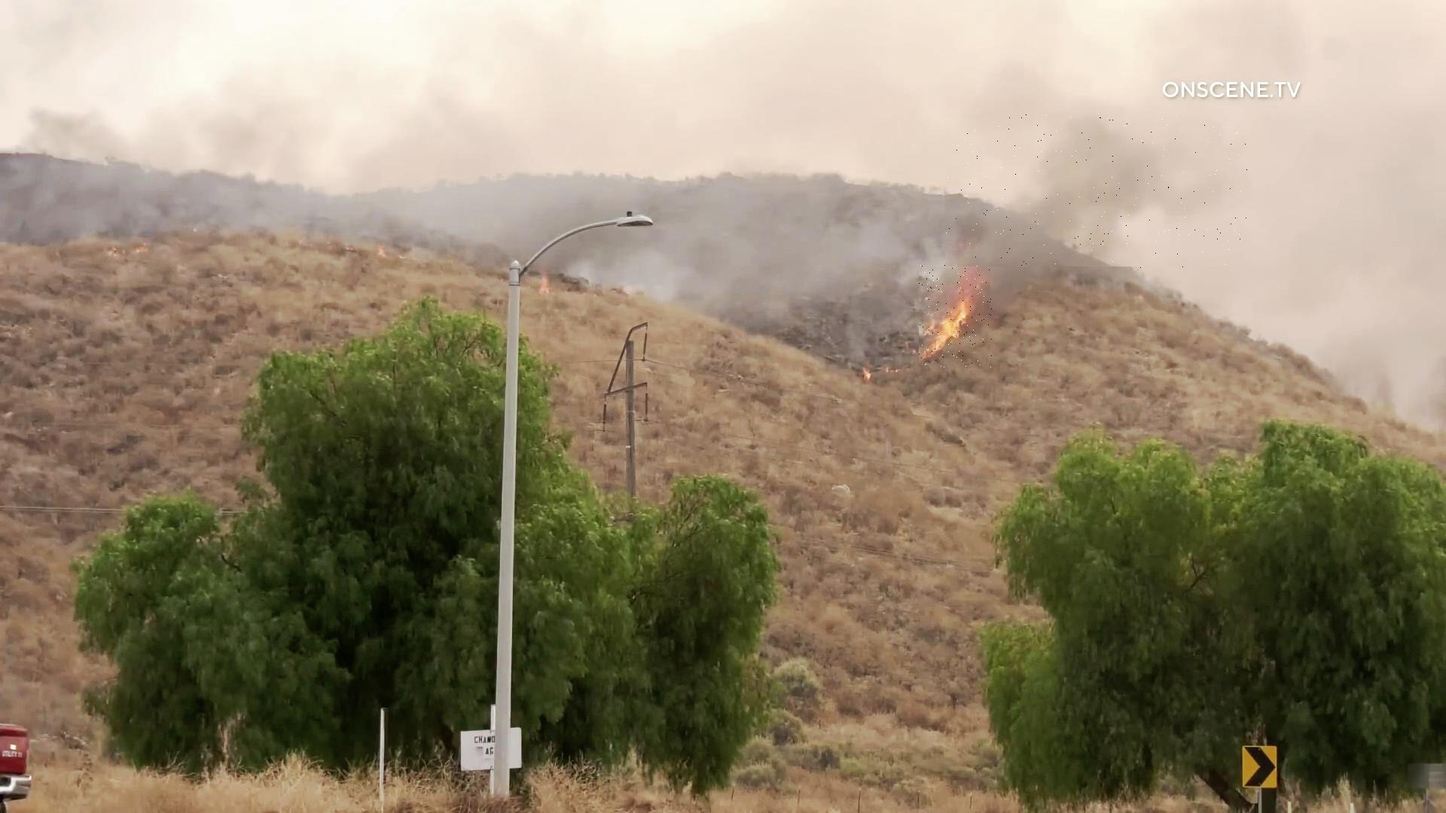fire: (920, 266, 993, 368)
smoke: (946, 115, 1248, 269)
